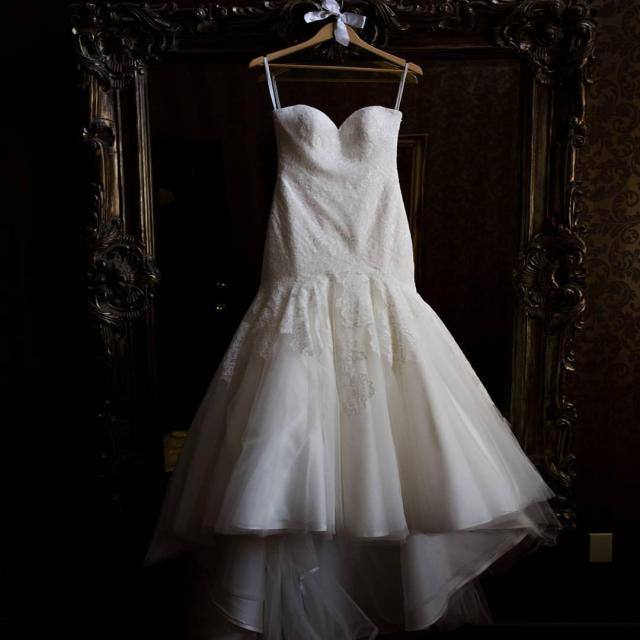Dress: (180, 81, 539, 523)
